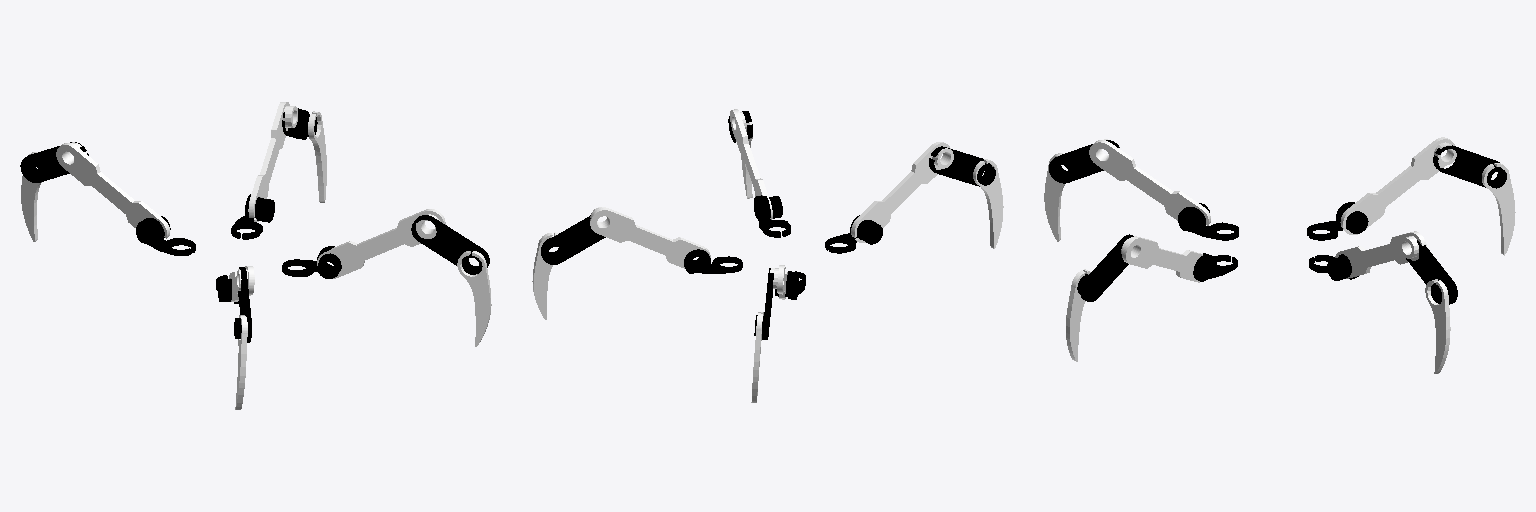
robot.urdf — spider:
<?xml version="1.0"?>
<robot name="spider">

  <material name="blue">
    <color rgba="0 0 0.8 1"/>
  </material>
  <material name="black">
    <color rgba="0 0 0 1"/>
  </material>
  <material name="white">
    <color rgba="1 1 1 1"/>
  </material>

  

  <link name="base_link">
    <visual>
      <origin rpy="0.0 0 0" xyz="0 0 1"/>
      <geometry>
        <mesh filename="package://udm_spider/mesh/torso.stl" scale="0.05 0.05 0.05"/>
      </geometry>
      <material name="white"/>
    </visual>
  </link>



  <link name="root_link_1">
    <visual>
      <origin rpy="0 0 0.7" xyz="0.30 0.2 0.0"/>
      <geometry>
        <mesh filename="package://udm_spider/mesh/rootlink.stl" scale="0.05 0.05 0.05"/>
      </geometry>
      <material name="black"/>
    </visual>
  </link>

  <joint name="root_link_1_joint" type="revolute">
    <axis xyz="0 0 1"/>
    <limit effort="1000.0" lower="-1" upper="0.5" velocity="0.5"/>
    <parent link="base_link"/>
    <child link="root_link_1"/>
    <origin xyz="0.7 1.0 0.85"/>
  </joint>

  <link name="long_link_1">
    <visual>
      <origin xyz="0.25 0.4 -0.25" rpy="0 0 1"/>
      <geometry>
        <mesh filename="package://udm_spider/mesh/long-link.stl" scale="0.05 0.05 0.05"/>
      </geometry>
      <material name="white"/>
    </visual>
  </link>

  <joint name="long_link_1_joint" type="revolute">
    <axis xyz="0 0 1"/>
    <limit effort="1000.0" lower="-1" upper="1" velocity="0.5"/>
    <parent link="root_link_1"/>
    <child link="long_link_1"/>
    <origin rpy="1.5 0.5 0.7" xyz="0.50 0.15 0.25"/>
  </joint>

  <link name="link_1">
    <visual>
      <origin   xyz="0.5 0 -0.02"/>
      <geometry>
        <mesh filename="package://udm_spider/mesh/link1.stl" scale="0.05 0.05 0.05"/>
      </geometry>
      <material name="black"/>
    </visual>
  </link>

  <joint name="link_1_joint" type="revolute">
    <axis xyz="0 0 1"/>
    <limit effort="1000.0" lower="-1" upper="1" velocity="0.5"/>
    <parent link="long_link_1"/>
    <child link="link_1"/>
     <origin rpy="0 0 0" xyz="1.1 1.6 -0.2"  />
  </joint>

  <link name="leaf_link_1">
    <visual>
      <origin rpy="0 0 -1" xyz="0.27 -0.42 0"/>
      <geometry>
        <mesh filename="package://udm_spider/mesh/leaf-link.stl" scale="0.05 0.05 0.05"/>
      </geometry>
      <material name="white"/>
    </visual>
  </link>

  <joint name="leaf_link_1_joint" type="revolute">
    <axis xyz="0 0 1"/>
    <limit effort="1000.0" lower="-1" upper="1" velocity="0.5"/>
    <parent link="link_1"/>
    <child link="leaf_link_1"/>
    <origin xyz="1 0 0.2"/>
  </joint>



  <link name="root_link_2">
    <visual>
      <origin rpy="0 0 2" xyz="-0.20 0.3 0.0"/>
      <geometry>
        <mesh filename="package://udm_spider/mesh/rootlink.stl" scale="0.05 0.05 0.05"/>
      </geometry>
      <material name="black"/>
    </visual>
  </link>	

  <joint name="root_link_2_joint" type="revolute">
    <axis xyz="0 0 1.4"/>
    <limit effort="1000.0" lower="-1" upper="0.5" velocity="0.5"/>
    <parent link="base_link"/>
    <child link="root_link_2"/>
    <origin xyz="-0.7 1.0 0.85"/>
  </joint>

  <link name="long_link_2">
    <visual>
      <origin rpy="0 0 1" xyz="0.25 0.4 0"/>
      <geometry>
        <mesh filename="package://udm_spider/mesh/long-link.stl" scale="0.05 0.05 0.05"/>
      </geometry>
      <material name="white"/>
    </visual>
  </link>

  <joint name="long_link_2_joint" type="revolute">
    <axis xyz="0 0 1"/>
    <limit effort="1000.0" lower="-1" upper="1" velocity="0.5"/>
    <parent link="root_link_2"/>
    <child link="long_link_2"/>
    <origin xyz="-0.2 0.43 0.2" rpy="1.5 0.5 2"/>
  </joint>

  <link name="link_2">
    <visual>
      <origin   xyz="0.5 0 -0.02"/>
      <geometry>
        <mesh filename="package://udm_spider/mesh/link1.stl" scale="0.05 0.05 0.05"/>
      </geometry>
      <material name="black"/>
    </visual>
  </link>

  <joint name="link_2_joint" type="revolute">
    <axis xyz="0 0 1"/>
    <limit effort="1000.0" lower="-1" upper="1" velocity="0.5"/>
    <parent link="long_link_2"/>
    <child link="link_2"/>
     <origin rpy="0 0 0" xyz="1.1 1.6 0.2"/>
  </joint>


  <link name="leaf_link_2">
    <visual>
      <origin rpy="0 0 -1" xyz="0.27 -0.42 0"/>
      <geometry>
        <mesh filename="package://udm_spider/mesh/leaf-link.stl" scale="0.05 0.05 0.05"/>
      </geometry>
      <material name="white"/>
    </visual>
  </link>

  <joint name="leaf_link_2_joint" type="revolute">
    <axis xyz="0 0 1"/>
    <limit effort="1000.0" lower="-1" upper="1" velocity="0.5"/>
    <parent link="link_2"/>
    <child link="leaf_link_2"/>
    <origin xyz="1 0 0.1"/>
  </joint>


  <link name="root_link_3">
    <visual>
      <origin rpy="0 0 -2" xyz="-0.20 -0.3 0.0"/>
      <geometry>
        <mesh filename="package://udm_spider/mesh/rootlink.stl" scale="0.05 0.05 0.05"/>
      </geometry>
      <material name="black"/>
    </visual>
  </link>	

  <joint name="root_link_3_joint" type="revolute">
    <axis xyz="0 0 1.4"/>
    <limit effort="1000.0" lower="-1" upper="0.5" velocity="0.5"/>
    <parent link="base_link"/>
    <child link="root_link_3"/>
    <origin xyz="-0.7 -1.0 0.85"/>
  </joint>

  <link name="long_link_3">
    <visual>
      <origin rpy="0 0 1" xyz="0.2 0.4 0"/>
      <geometry>
        <mesh filename="package://udm_spider/mesh/long-link.stl" scale="0.05 0.05 0.05"/>
      </geometry>
      <material name="white"/>
    </visual>
  </link>

  <joint name="long_link_3_joint" type="revolute">
    <axis xyz="0 0 1"/>
    <limit effort="1000.0" lower="-1" upper="1" velocity="0.5"/>
    <parent link="root_link_3"/>
    <child link="long_link_3"/>
    <origin xyz="-0.2 -0.43 0.2" rpy="1.5 0.5 -2"/>
  </joint>



  <link name="link_3">
    <visual>
      <origin   xyz="0.5 0 0.02"/>
      <geometry>
        <mesh filename="package://udm_spider/mesh/link1.stl" scale="0.05 0.05 0.05"/>
      </geometry>
      <material name="black"/>
    </visual>
  </link>

  <joint name="link_3_joint" type="revolute">
    <axis xyz="0 0 1"/>
    <limit effort="1000.0" lower="-1" upper="1" velocity="0.5"/>
    <parent link="long_link_3"/>
    <child link="link_3"/>
     <origin rpy="0 0 0" xyz="1 1.6 0.1"/>
  </joint>


  <link name="leaf_link_3">
    <visual>
      <origin rpy="0 0 -1" xyz="0.3 -0.4 0"/>
      <geometry>
        <mesh filename="package://udm_spider/mesh/leaf-link.stl" scale="0.05 0.05 0.05"/>
      </geometry>
      <material name="white"/>
    </visual>
  </link>

  <joint name="leaf_link_3_joint" type="revolute">
    <axis xyz="0 0 1"/>
    <limit effort="1000.0" lower="-1" upper="1" velocity="0.5"/>
    <parent link="link_3"/>
    <child link="leaf_link_3"/>
    <origin xyz="1 0 0.1"/>
  </joint>

  <link name="root_link_4">
    <visual>
      <origin rpy="0 0 -0.7" xyz="0.30 -0.2 0.0"/>
      <geometry>
        <mesh filename="package://udm_spider/mesh/rootlink.stl" scale="0.05 0.05 0.05"/>
      </geometry>
      <material name="black"/>
    </visual>
  </link>

  <joint name="root_link_4_joint" type="revolute">
    <axis xyz="0 0 1"/>
    <limit effort="1000.0" lower="-1" upper="0.5" velocity="0.5"/>
    <parent link="base_link"/>
    <child link="root_link_4"/>
    <origin xyz="0.7 -1.0 0.85"/>
  </joint>

  <link name="long_link_4">
    <visual>
      <origin rpy="0 0 1" xyz="0.3 0.4 0"/>
      <geometry>
        <mesh filename="package://udm_spider/mesh/long-link.stl" scale="0.05 0.05 0.05"/>
      </geometry>
      <material name="white"/>
    </visual>
  </link>

  <joint name="long_link_4_joint" type="revolute">
    <axis xyz="0 0 1"/>
    <limit effort="1000.0" lower="-1" upper="1" velocity="0.5"/>
    <parent link="root_link_4"/>
    <child link="long_link_4"/>
    <origin xyz="0.4 -0.23 0.2" rpy="1.5 0.5 -0.8"/>
  </joint>



  <link name="link_4">
    <visual>
      <origin   xyz="0.5 0 -0.02"/>
      <geometry>
        <mesh filename="package://udm_spider/mesh/link1.stl" scale="0.05 0.05 0.05"/>
      </geometry>
      <material name="black"/>
    </visual>
  </link>

  <joint name="link_4_joint" type="revolute">
    <axis xyz="0 0 1"/>
    <limit effort="1000.0" lower="-1" upper="1" velocity="0.5"/>
    <parent link="long_link_4"/>
    <child link="link_4"/>
     <origin rpy="0 0 0" xyz="1.1 1.6 0.2"/>
  </joint>



  <link name="leaf_link_4">
    <visual>
      <origin rpy="0 0 -1" xyz="0.27 -0.42 0"/>
      <geometry>
        <mesh filename="package://udm_spider/mesh/leaf-link.stl" scale="0.05 0.05 0.05"/>
      </geometry>
      <material name="white"/>
    </visual>
  </link>

  <joint name="leaf_link_4_joint" type="revolute">
    <axis xyz="0 0 1"/>
    <limit effort="1000.0" lower="-1" upper="1" velocity="0.5"/>
    <parent link="link_4"/>
    <child link="leaf_link_4"/>
    <origin xyz="1 0 0.2"/>
  </joint>

</robot>

--- Render facts (derived) ---
The picture shows the robot from 3 angles, left to right: view 1: azimuth 30°, elevation 25°; view 2: azimuth 150°, elevation 25°; view 3: azimuth 270°, elevation 25°; orthographic projection.
Robot: spider — 17 links, 16 joints (16 revolute); root link base_link; default pose: all joints at 0.
Links seen in each view (by area): view 1: long_link_2, long_link_4, link_4, long_link_1, leaf_link_4, root_link_2, link_2, root_link_4, root_link_1, leaf_link_1, leaf_link_2, leaf_link_3 (+1 smaller); view 2: long_link_1, long_link_3, link_1, link_3, long_link_4, leaf_link_3, root_link_4, root_link_1, root_link_3, leaf_link_1, leaf_link_2; view 3: long_link_2, long_link_3, long_link_4, long_link_1, link_2, link_4, link_3, leaf_link_1, leaf_link_2, link_1, root_link_3, leaf_link_4 (+4 smaller).
Boxes of the visible links, x1,y1,x2,y2 form: long_link_2: (56, 142, 169, 239); long_link_4: (317, 209, 445, 278); link_4: (411, 215, 489, 274); long_link_1: (248, 102, 297, 221); leaf_link_4: (457, 251, 491, 346); root_link_2: (136, 216, 195, 255); link_2: (20, 142, 88, 182); root_link_4: (282, 246, 341, 278); root_link_1: (231, 194, 274, 239); leaf_link_1: (308, 111, 326, 202); leaf_link_2: (21, 152, 41, 241); leaf_link_3: (235, 315, 247, 409); long_link_1: (590, 207, 710, 268); long_link_3: (851, 142, 953, 242); link_1: (541, 215, 605, 264); link_3: (929, 146, 995, 186); long_link_4: (730, 109, 772, 219); leaf_link_3: (973, 159, 1003, 248); root_link_4: (754, 195, 790, 237); root_link_1: (684, 249, 742, 273); root_link_3: (825, 215, 882, 253); leaf_link_1: (532, 232, 558, 319); leaf_link_2: (751, 312, 763, 402); long_link_2: (1340, 137, 1456, 234); long_link_3: (1089, 139, 1210, 225); long_link_4: (1121, 236, 1202, 282); long_link_1: (1335, 231, 1426, 278); link_2: (1433, 145, 1506, 188); link_4: (1077, 234, 1133, 301); link_3: (1049, 140, 1119, 183); leaf_link_1: (1425, 279, 1450, 373); leaf_link_2: (1482, 163, 1515, 255); link_1: (1406, 240, 1457, 304); root_link_3: (1178, 203, 1238, 240); leaf_link_4: (1066, 269, 1090, 361).
Bounding box of the posed robot: 5.79 × 8.29 × 2.32 m (x, y, z).
16 mesh visuals loaded from 5 distinct referenced files (4 ASCII STL); not drawn: 1 (reference not matched to a file when rendering).